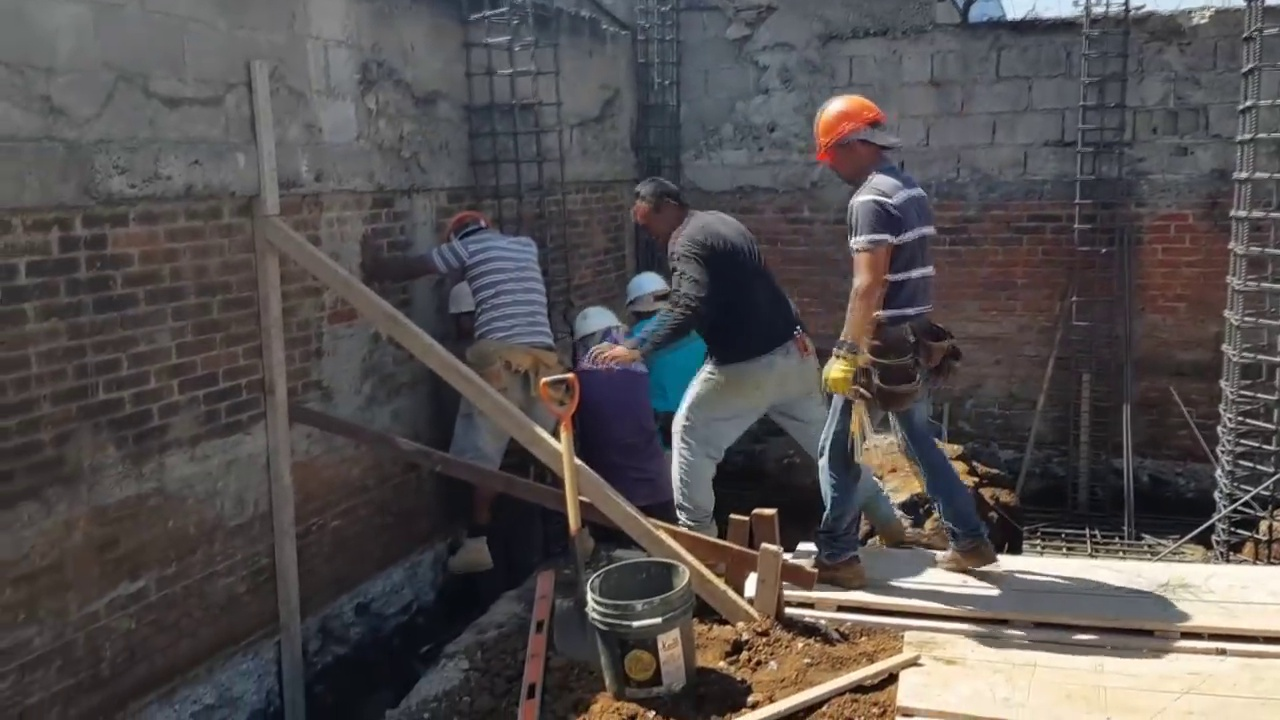helmet: (813, 96, 892, 167), (626, 265, 672, 305), (572, 307, 620, 343), (448, 280, 476, 315)
helmet-off: (632, 175, 688, 243)
helmet-on: (816, 94, 906, 190), (570, 307, 629, 366), (625, 268, 672, 321), (445, 278, 479, 347)
person: (356, 209, 567, 578), (818, 96, 974, 569), (634, 178, 826, 553), (569, 305, 673, 509), (621, 264, 710, 424)
